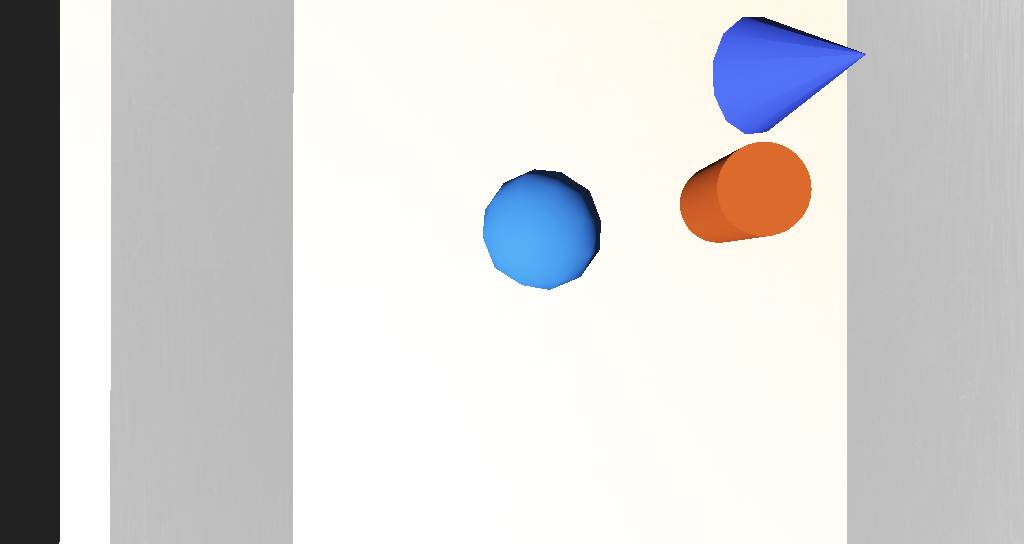cone: (566, 220, 620, 258)
cylinder: (573, 160, 680, 222)
sphere: (461, 231, 522, 274)
